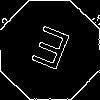E: (25, 25, 73, 80)
